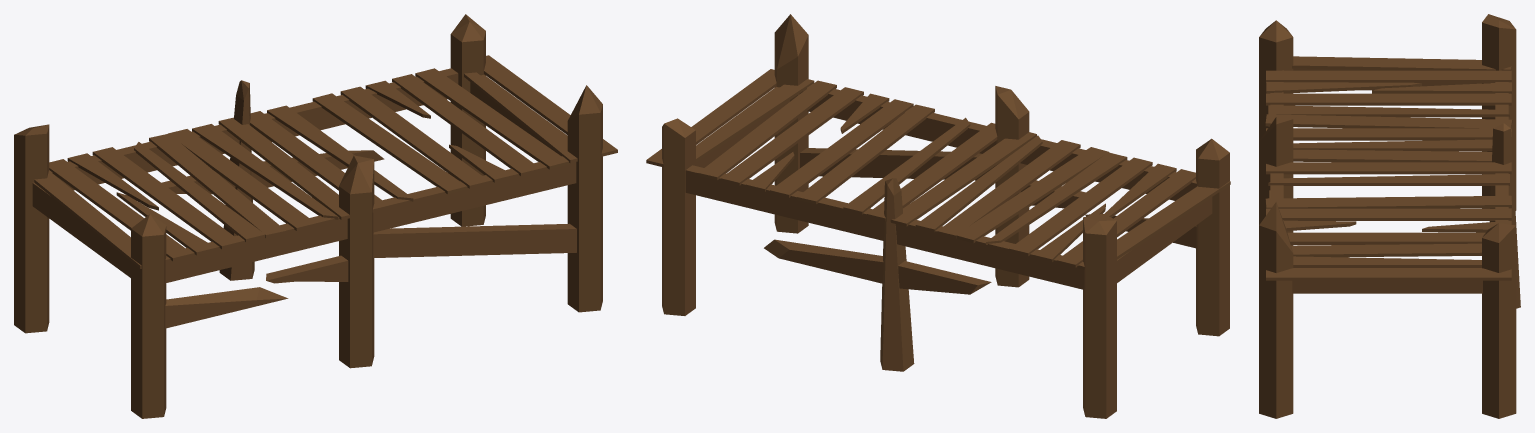
Rendered from stm_env_SwampDock.fbx.
The picture shows the model from 3 angles, left to right: view 1: azimuth 30°, elevation 25°; view 2: azimuth 150°, elevation 25°; view 3: azimuth 270°, elevation 25°; orthographic projection. The views are drawn at different scales.
Parts seen in each view (by area): view 1: Dock; view 2: Dock; view 3: Dock.
Part boxes in pixels (x1,y1,x2,y2): Dock: [14, 14, 617, 418]; Dock: [646, 14, 1230, 418]; Dock: [1259, 14, 1520, 418].
Size of the model in its own units: 759 by 335 by 379.
